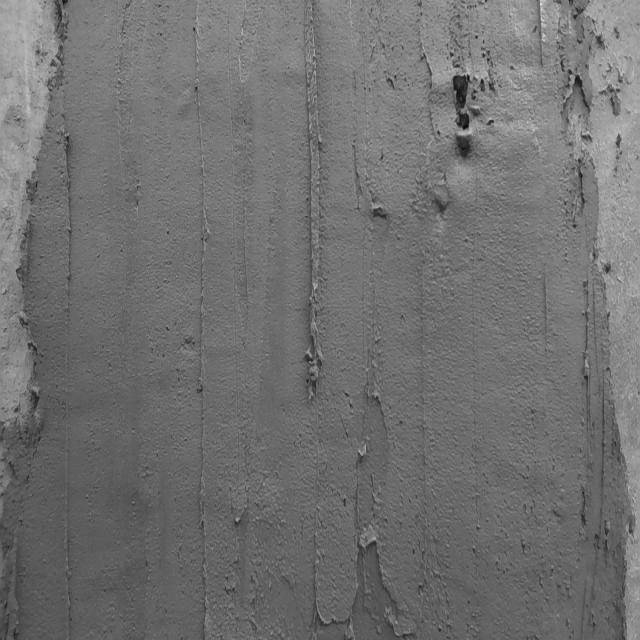trowels marks: (188, 6, 214, 640), (57, 101, 85, 640), (296, 4, 326, 407)
